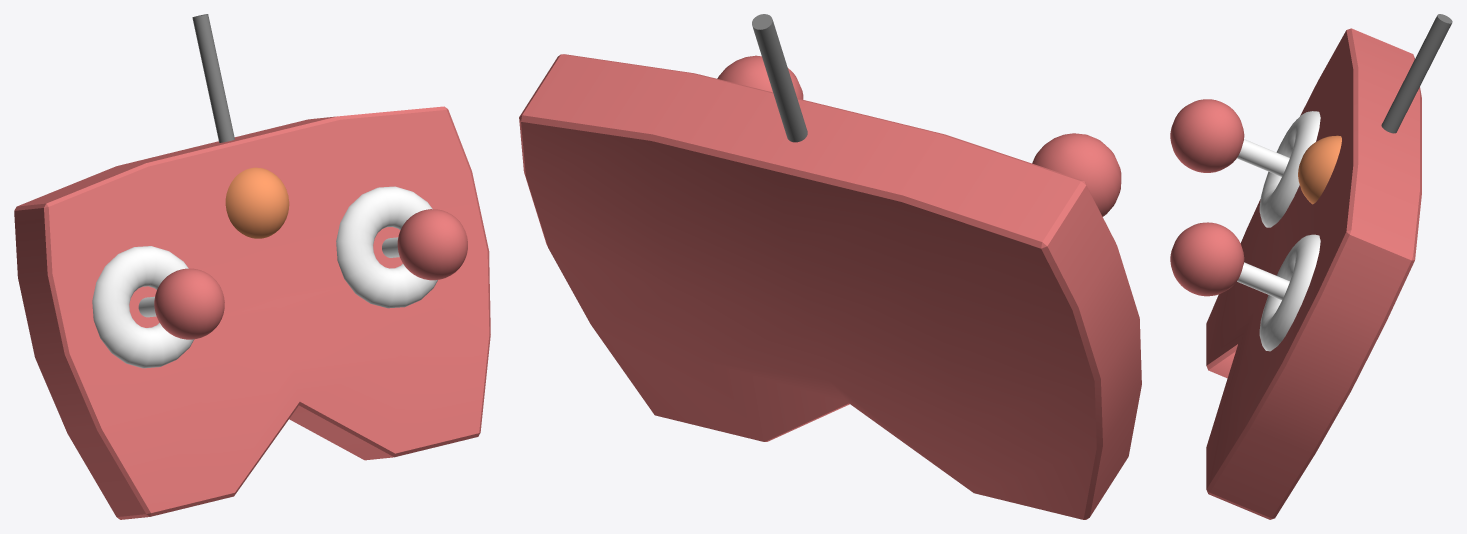
The model's file is コントローラー.fbx.
3 renders of one model, left to right at view 1: azimuth 30°, elevation 25°; view 2: azimuth 150°, elevation 25°; view 3: azimuth 270°, elevation 25°, orthographic. The views are drawn at different scales.
Visible parts, largest first — view 1: pCylinder2; view 2: pCylinder2; view 3: pCylinder2.
Part boxes in pixels (x1,y1,x2,y2): pCylinder2: (14,14,490,519); pCylinder2: (519,14,1141,519); pCylinder2: (1170,14,1452,519).
Size of the model in its own units: 4.36 by 3.98 by 2.42.
